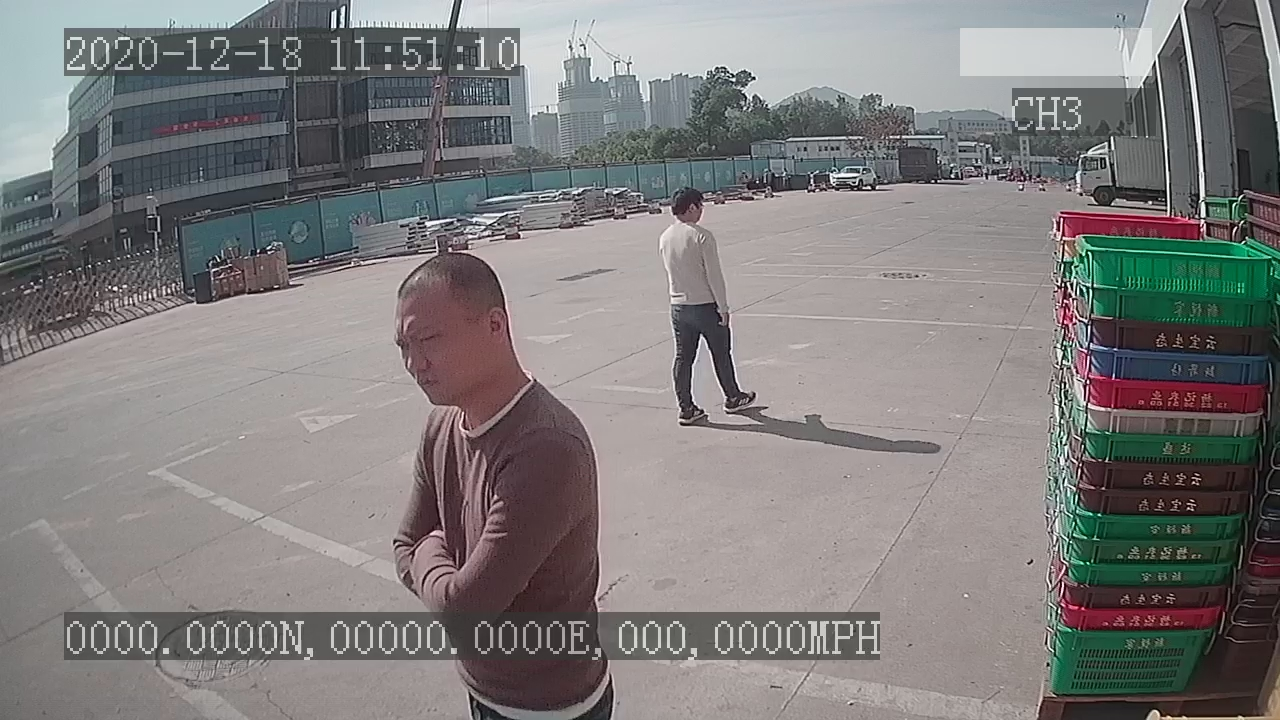person: (651, 185, 761, 431)
